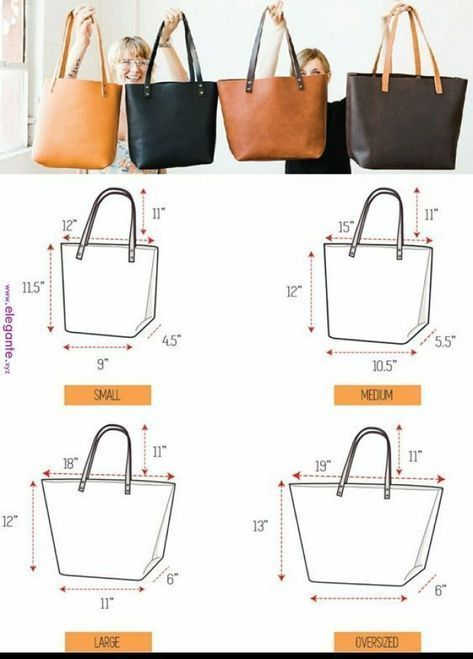cuero: (32, 3, 467, 170)
